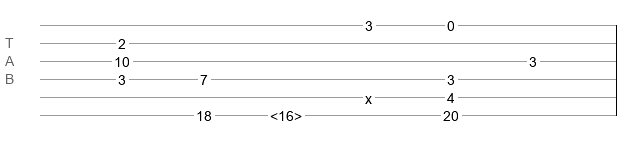0: (447, 18, 455, 28)
10: (114, 54, 130, 64)
18: (196, 108, 212, 118)
2: (118, 36, 126, 46)
20: (443, 108, 459, 118)
3: (118, 72, 126, 82), (365, 18, 373, 28), (447, 72, 455, 82), (529, 54, 537, 64)
4: (447, 90, 455, 100)
7: (200, 72, 208, 82)
harmonic: (270, 108, 302, 118)
x: (365, 91, 372, 99)
